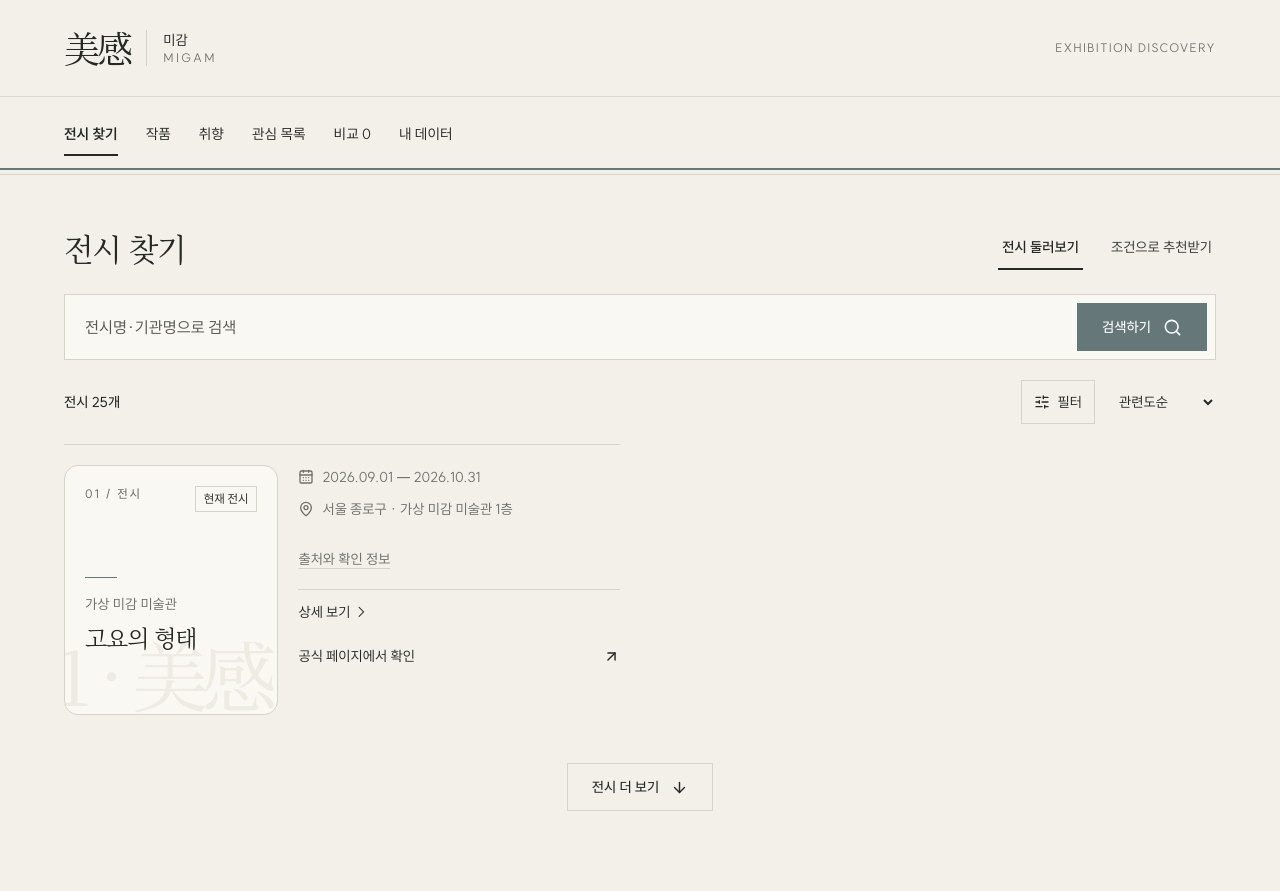
Test case: discovery user flows › keeps existing cards when fetching the next page fails
Expected: the heading "고요의 형태" is shown, [85,620,196,654]
Click the button "전시 더 보기". click: [640, 787]
box: [567,763,713,811]
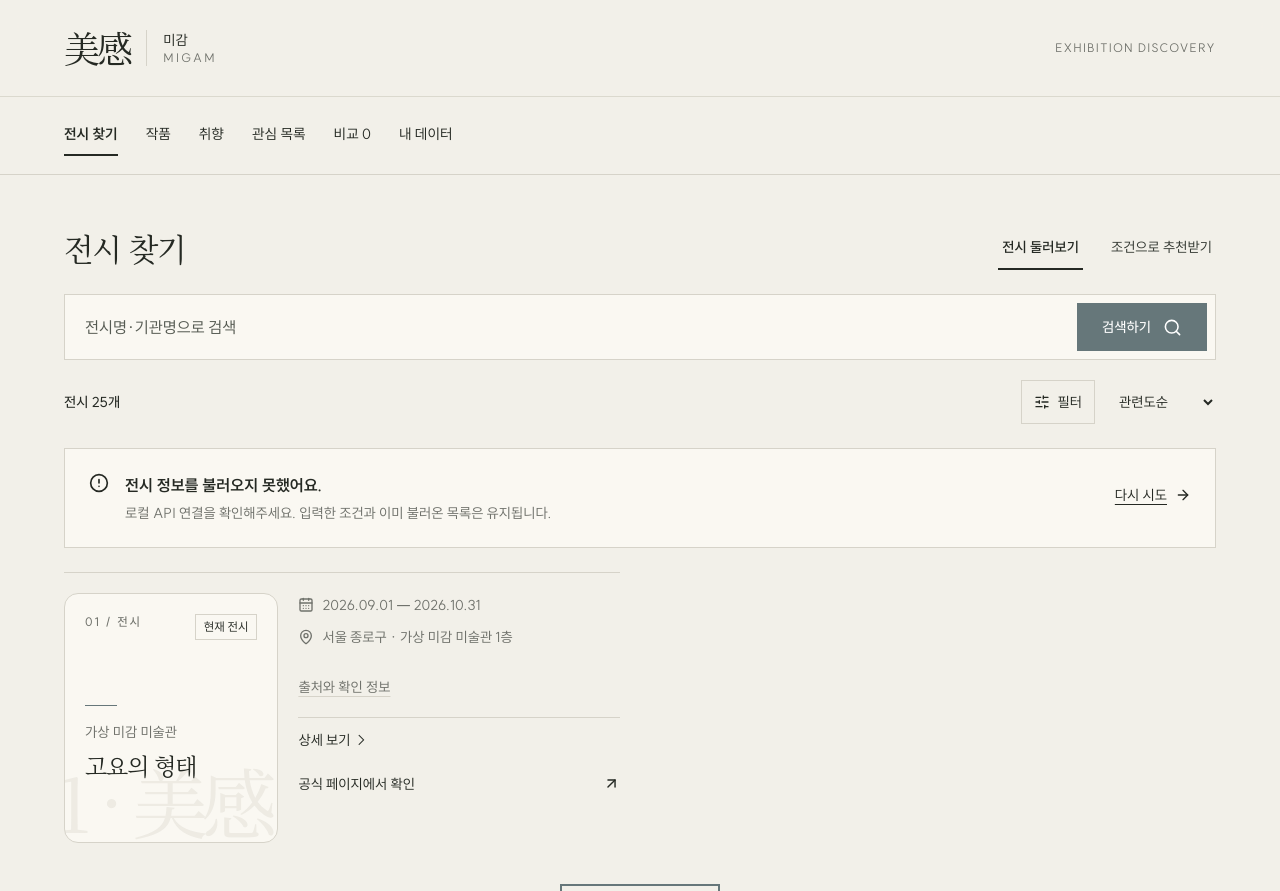
Expected: the heading "고요의 형태" is shown, [85,748,196,782]
Expected: the message "전시 정보를 불러오지 못했어요. 로컬 API 연결을 확인해주세요. 입력한 조건과 이미 불러온 목록은 유지됩니다. 다시 시도" is shown, [64,448,1216,548]
